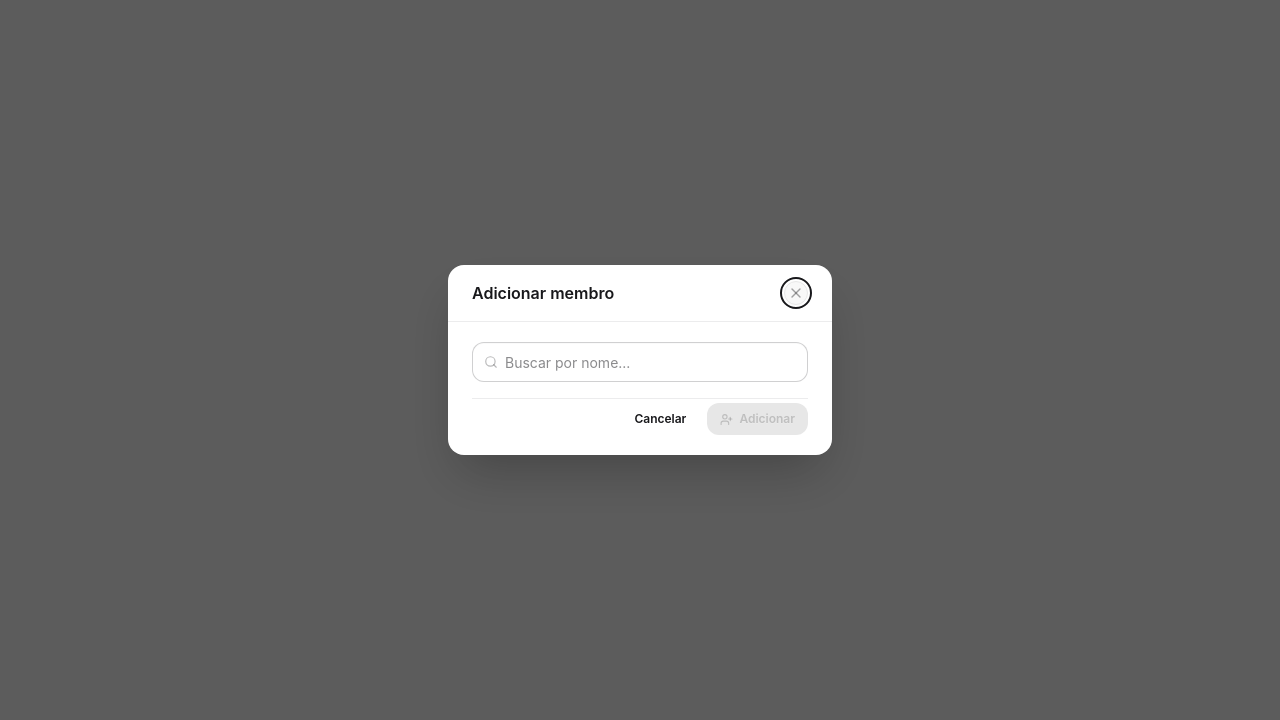
Test: AddMemberModal › habilita botão Adicionar após selecionar usuário
This screenshot has width=1280, height=720.
Click the field with placeholder "Buscar por nome...": x=640, y=362 [472,342,808,382]
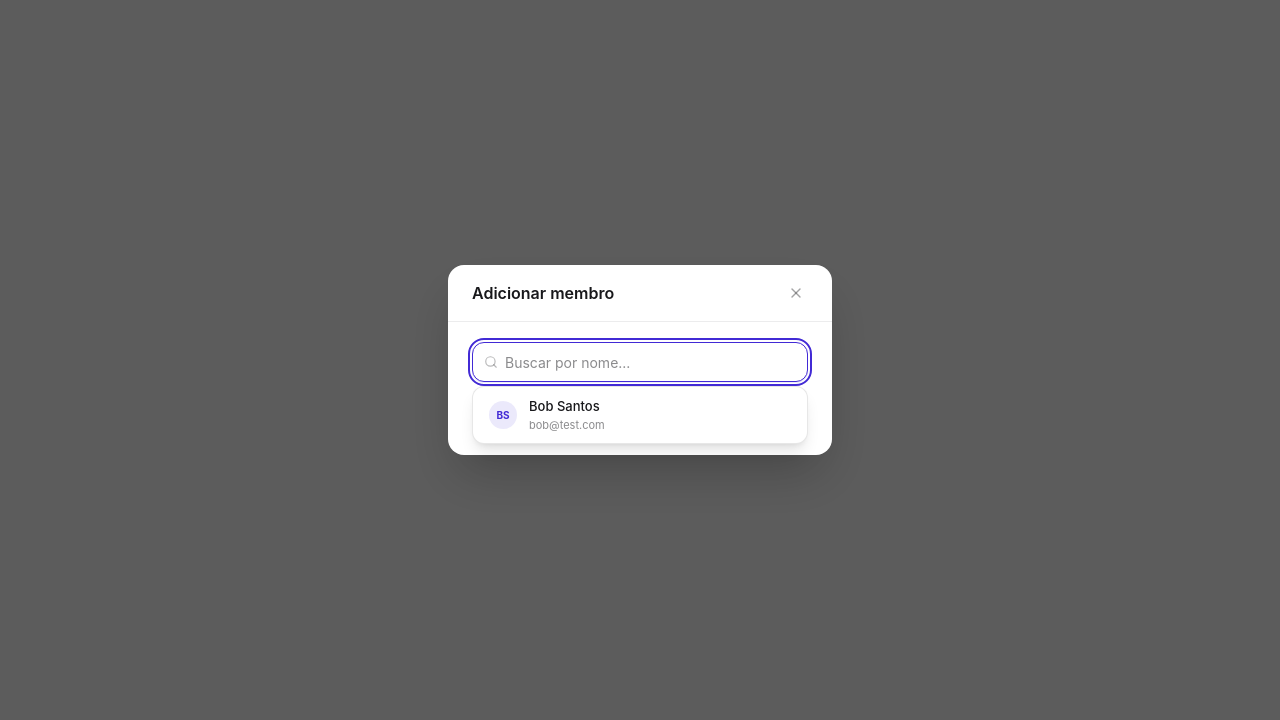
Result: the text "Bob Santos" is shown
Click the text "Bob Santos": x=567, y=407 [529,397,605,416]
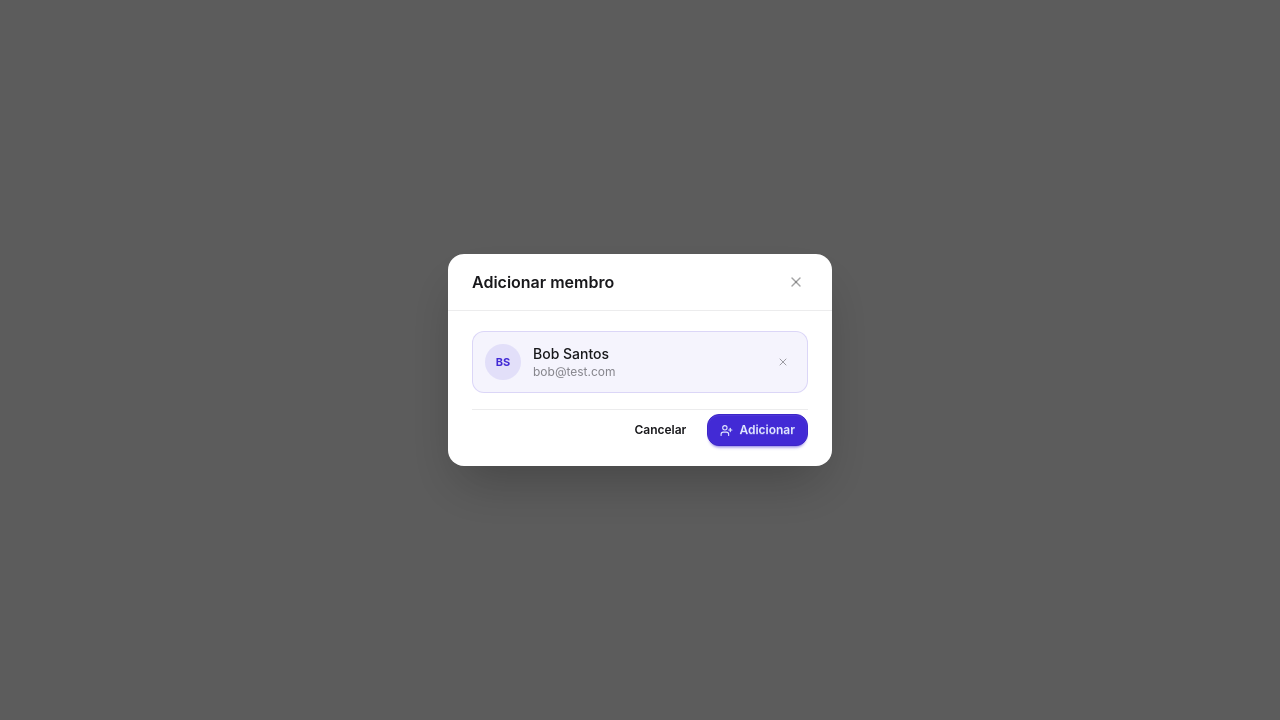
Result: the button "Adicionar" is enabled at [707,414,808,446]
